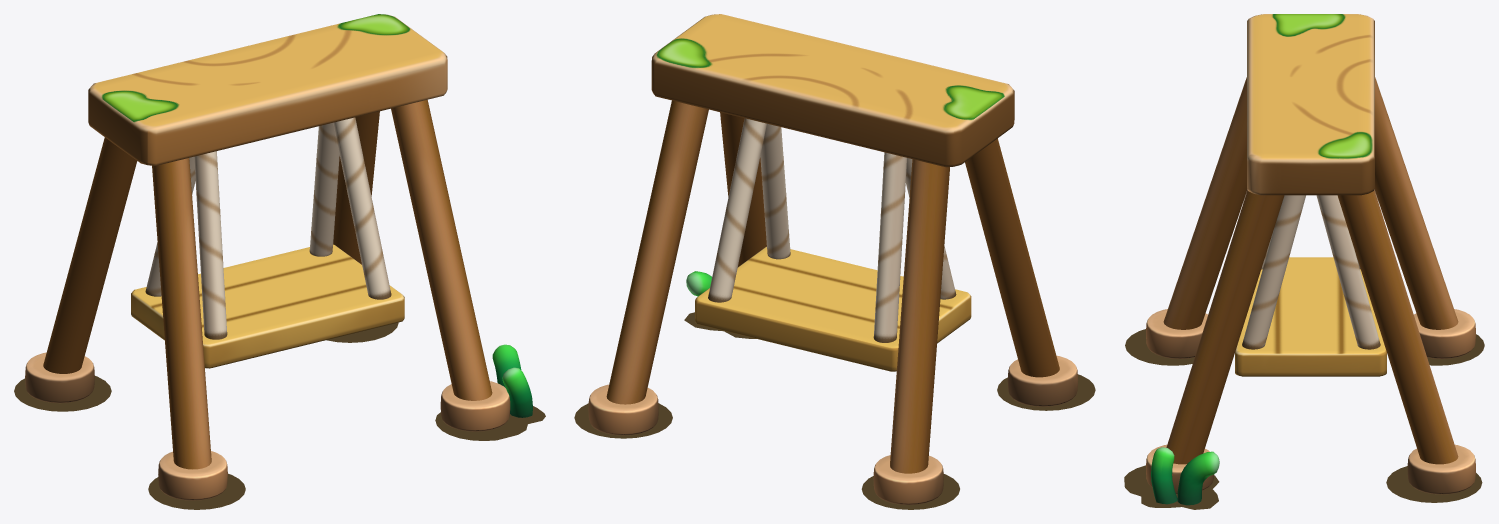
The model's file is Swing.fbx.
3 views of the same model, side by side, from view 1: azimuth 30°, elevation 25°; view 2: azimuth 150°, elevation 25°; view 3: azimuth 270°, elevation 25° (orthographic). The views are drawn at different scales.
Visible parts, largest first — view 1: Swing_body, Seat, Swing_SDW; view 2: Swing_body, Seat, Swing_SDW; view 3: Swing_body, Seat, Swing_SDW.
Boxes of the visible parts, x1,y1,x2,y2 form: Swing_body: (25, 14, 532, 500); Seat: (131, 117, 404, 368); Swing_SDW: (14, 322, 545, 509); Swing_body: (588, 14, 1078, 504); Seat: (695, 118, 971, 371); Swing_SDW: (574, 312, 1095, 509); Swing_body: (1146, 14, 1475, 505); Seat: (1235, 195, 1386, 376); Swing_SDW: (1124, 329, 1484, 509).
Size of the model in its own units: 188 by 156 by 155.
2 materials, 1 textured.
